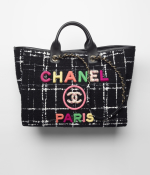channel: (14, 47, 140, 134), (36, 65, 106, 86), (66, 88, 86, 109)
